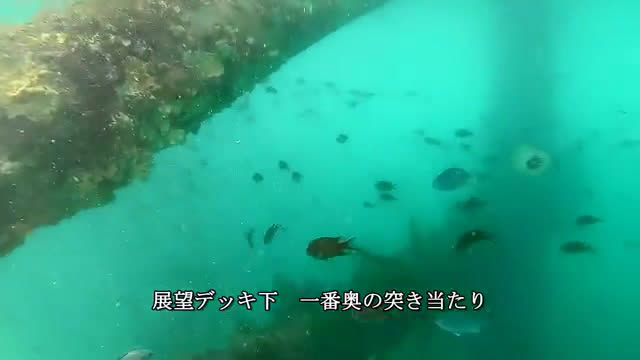smallfish: (306, 228, 357, 265)
